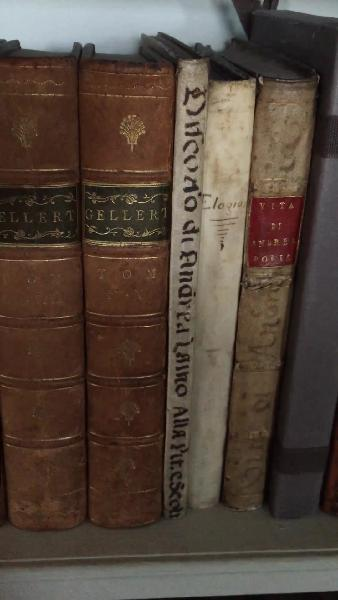Aa6-24: (170, 53, 204, 525)
Aa6-25: (187, 66, 260, 515)
Aa6-26: (214, 47, 315, 516)
